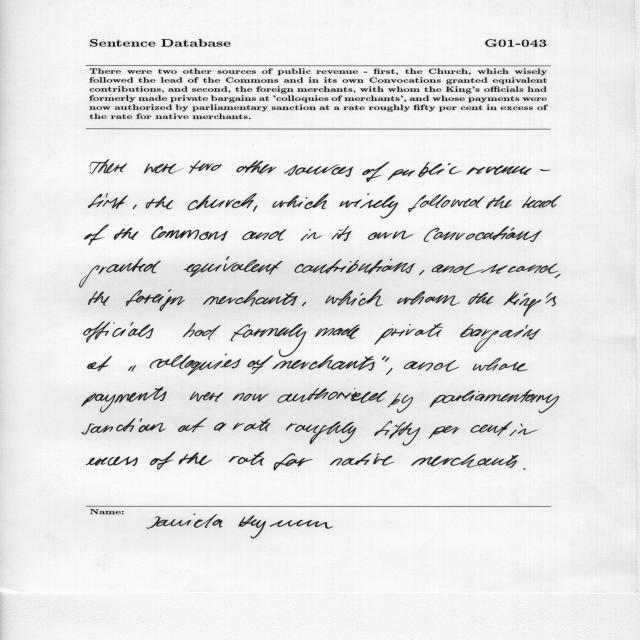word: (430, 390, 559, 414), (231, 324, 307, 357), (79, 258, 161, 288), (460, 324, 541, 352), (82, 387, 167, 413), (184, 257, 283, 277), (150, 354, 241, 375), (424, 226, 542, 242), (273, 355, 387, 371), (295, 259, 416, 274), (278, 388, 388, 403), (203, 290, 298, 307), (286, 422, 356, 445), (375, 323, 444, 345), (411, 454, 519, 468), (84, 322, 154, 343), (340, 194, 398, 219), (82, 418, 166, 435), (408, 195, 484, 213), (388, 162, 462, 180), (504, 292, 556, 317), (126, 289, 185, 311), (187, 194, 257, 211), (151, 226, 228, 241), (375, 421, 421, 446), (325, 289, 383, 307), (397, 291, 460, 306), (284, 164, 353, 177), (272, 194, 329, 209), (432, 264, 508, 275), (330, 453, 394, 466), (472, 358, 528, 371), (274, 453, 313, 471), (183, 322, 220, 340), (404, 360, 459, 372), (467, 165, 532, 175), (315, 325, 360, 339), (471, 421, 513, 436), (88, 194, 128, 209), (363, 162, 390, 183), (237, 160, 277, 174), (242, 229, 287, 241), (522, 195, 562, 208), (387, 393, 413, 413), (86, 457, 138, 467), (508, 264, 559, 274), (84, 225, 109, 245), (247, 355, 273, 374), (233, 419, 271, 432), (229, 452, 264, 466), (150, 452, 176, 470), (178, 418, 207, 433), (189, 161, 222, 174), (179, 453, 212, 466), (144, 163, 182, 174), (368, 231, 413, 240), (429, 426, 460, 439), (510, 424, 539, 437), (190, 391, 224, 402), (88, 356, 112, 371), (146, 196, 173, 209), (486, 196, 512, 209), (468, 292, 494, 305), (233, 393, 269, 402), (89, 291, 110, 306), (332, 226, 352, 241), (114, 228, 138, 240), (301, 229, 323, 241), (214, 423, 226, 432), (128, 365, 136, 372), (386, 368, 392, 375), (419, 270, 425, 275), (253, 205, 257, 212), (385, 357, 390, 362), (555, 274, 561, 278), (541, 169, 551, 171), (133, 205, 137, 209), (302, 302, 306, 306), (524, 468, 526, 470)
